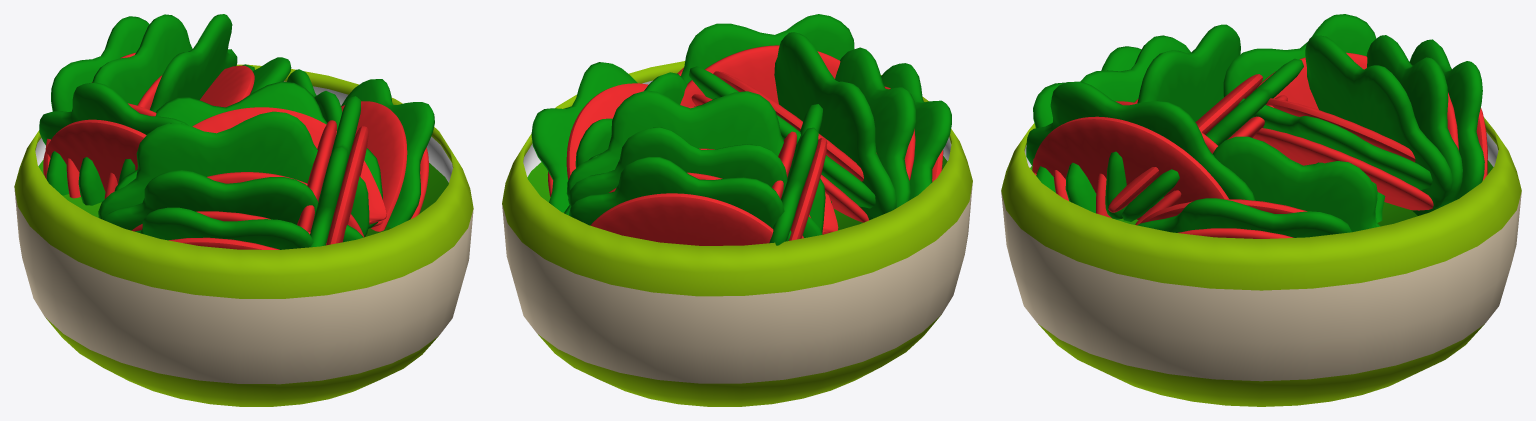
File: Comida_VR10.fbx
3 views of the same model, side by side, from view 1: azimuth 30°, elevation 25°; view 2: azimuth 150°, elevation 25°; view 3: azimuth 270°, elevation 25° (orthographic). The views are drawn at different scales.
Visible parts, largest first — view 1: Ensalada; view 2: Ensalada; view 3: Ensalada.
Boxes of the visible parts, left/top/right/bottom form: Ensalada: left=14, top=14, right=473, bottom=406; Ensalada: left=502, top=14, right=972, bottom=406; Ensalada: left=1001, top=14, right=1521, bottom=406.
Size of the model in its own units: 203 by 139 by 223.
